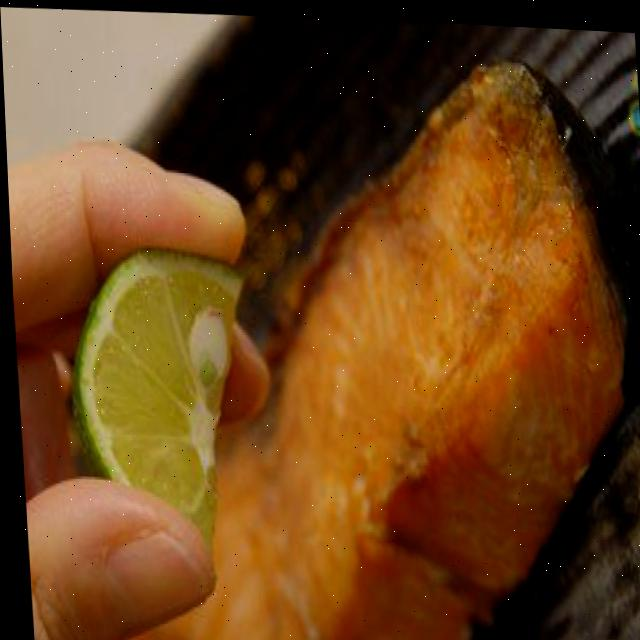熟制海鲜: (234, 48, 640, 640)
